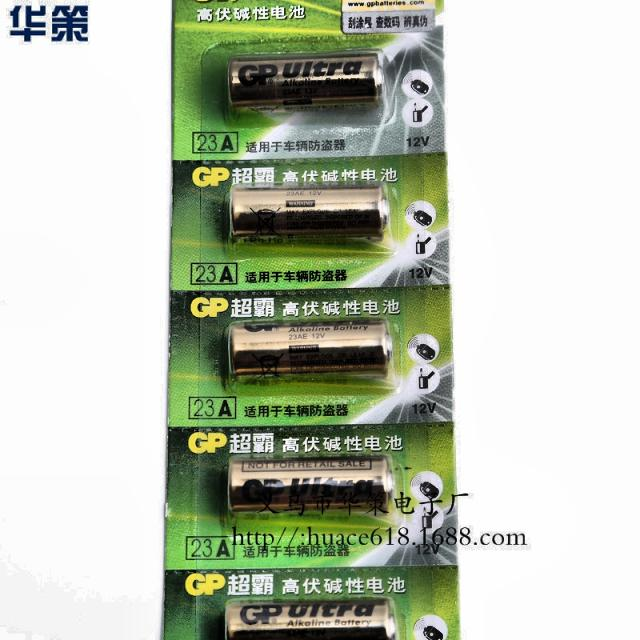Non-Valuable Waste - Batteries: (228, 455, 394, 514), (229, 320, 392, 378), (229, 54, 381, 111), (230, 185, 388, 238), (226, 600, 396, 640)
